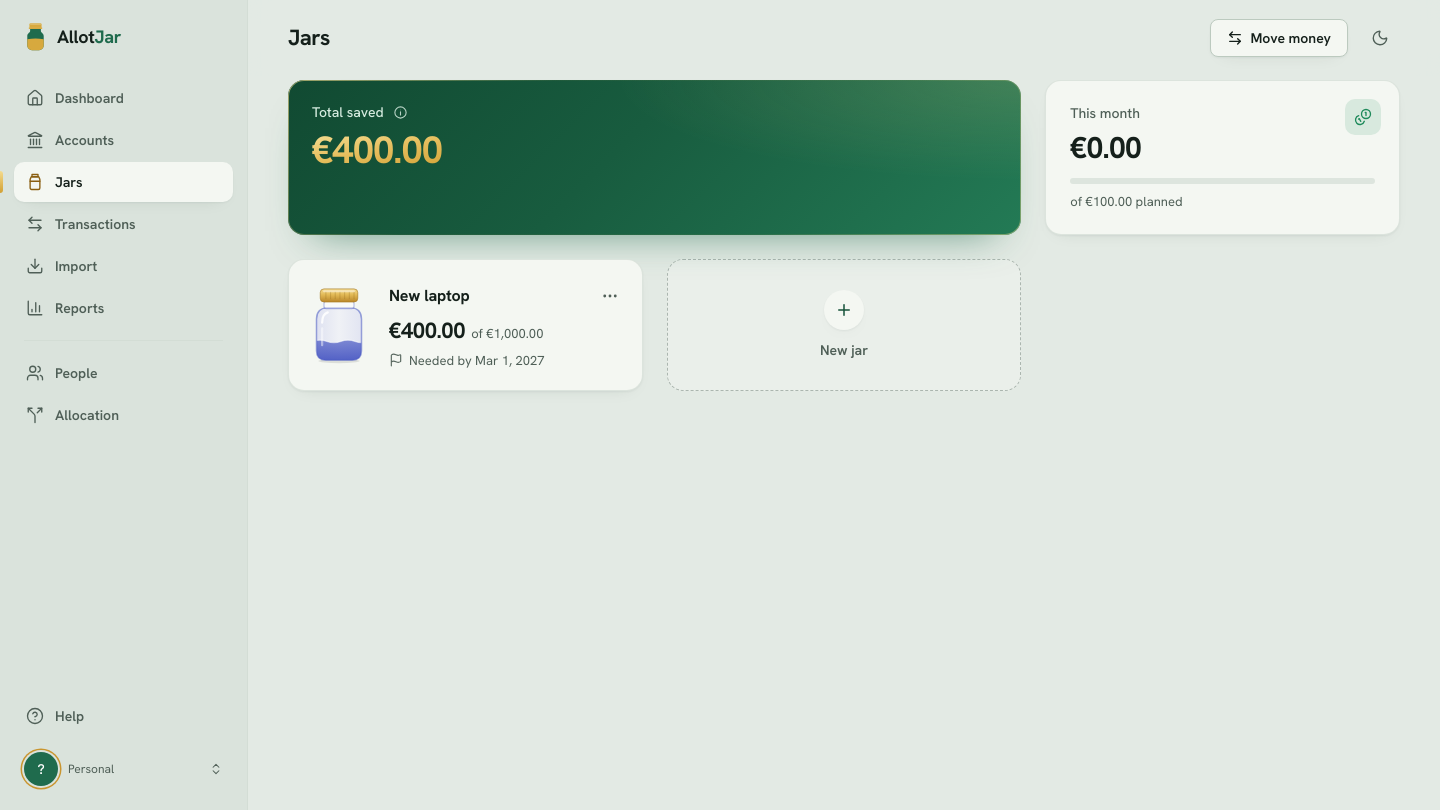
Test: JarsPage — completion and deletion (W04) › JAR-098: the server's refusal to complete is shown in its own words and the jar is unchanged
Click the button named "New laptop: more actions": click(610, 296) [590,276,630,316]
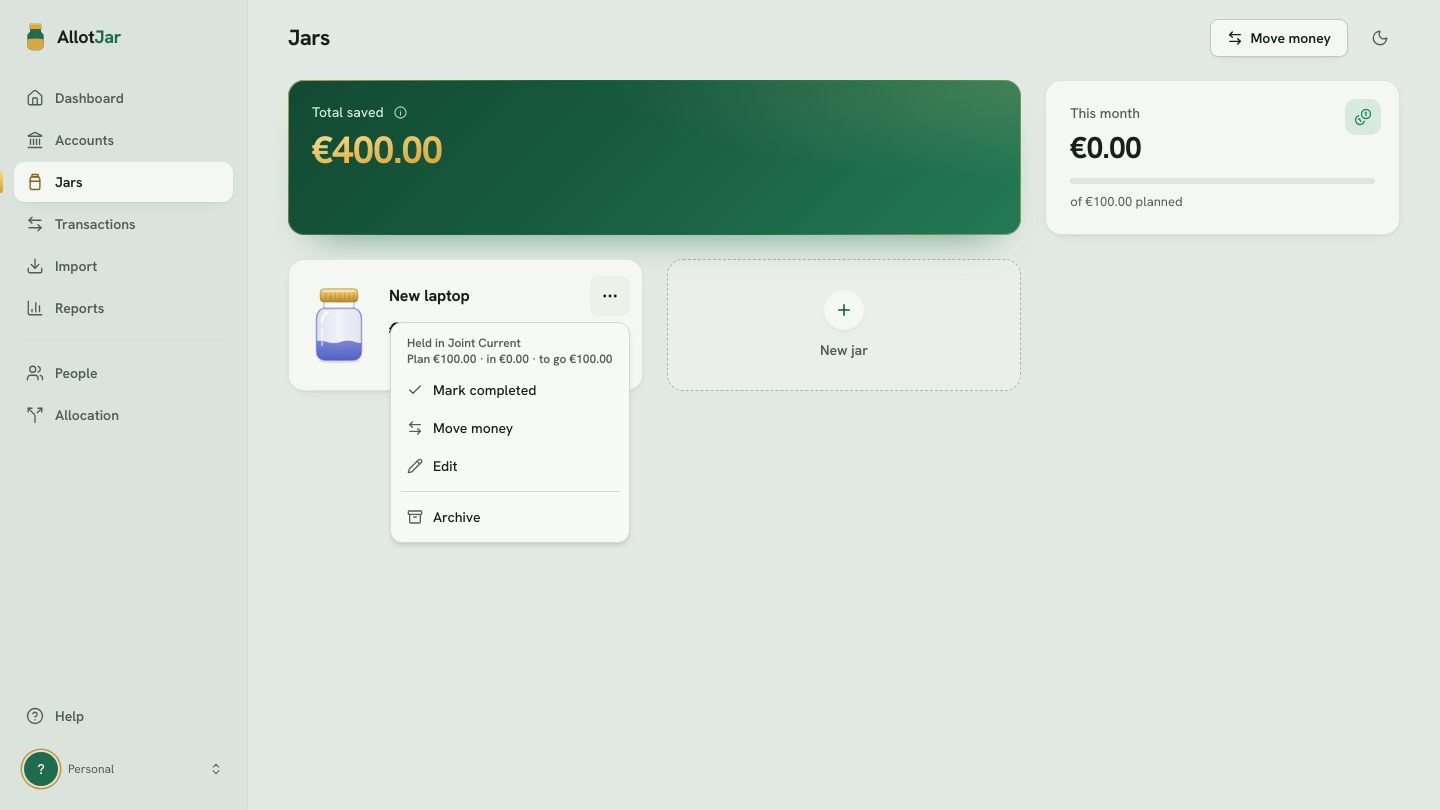
Click the menu item "Mark completed": click(472, 390) [407,381,536,399]
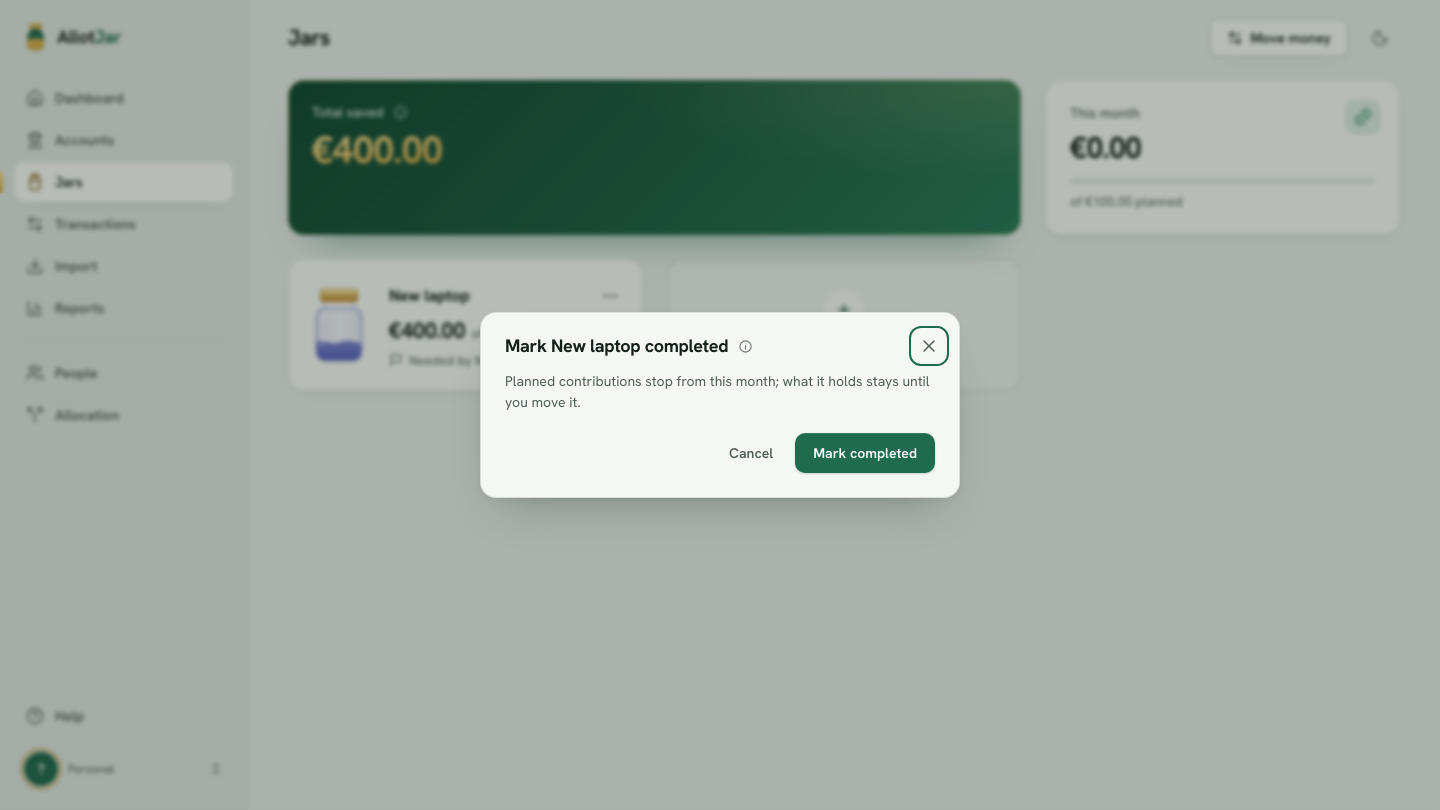
Click the button "Mark completed": click(865, 453) [795,433,935,473]
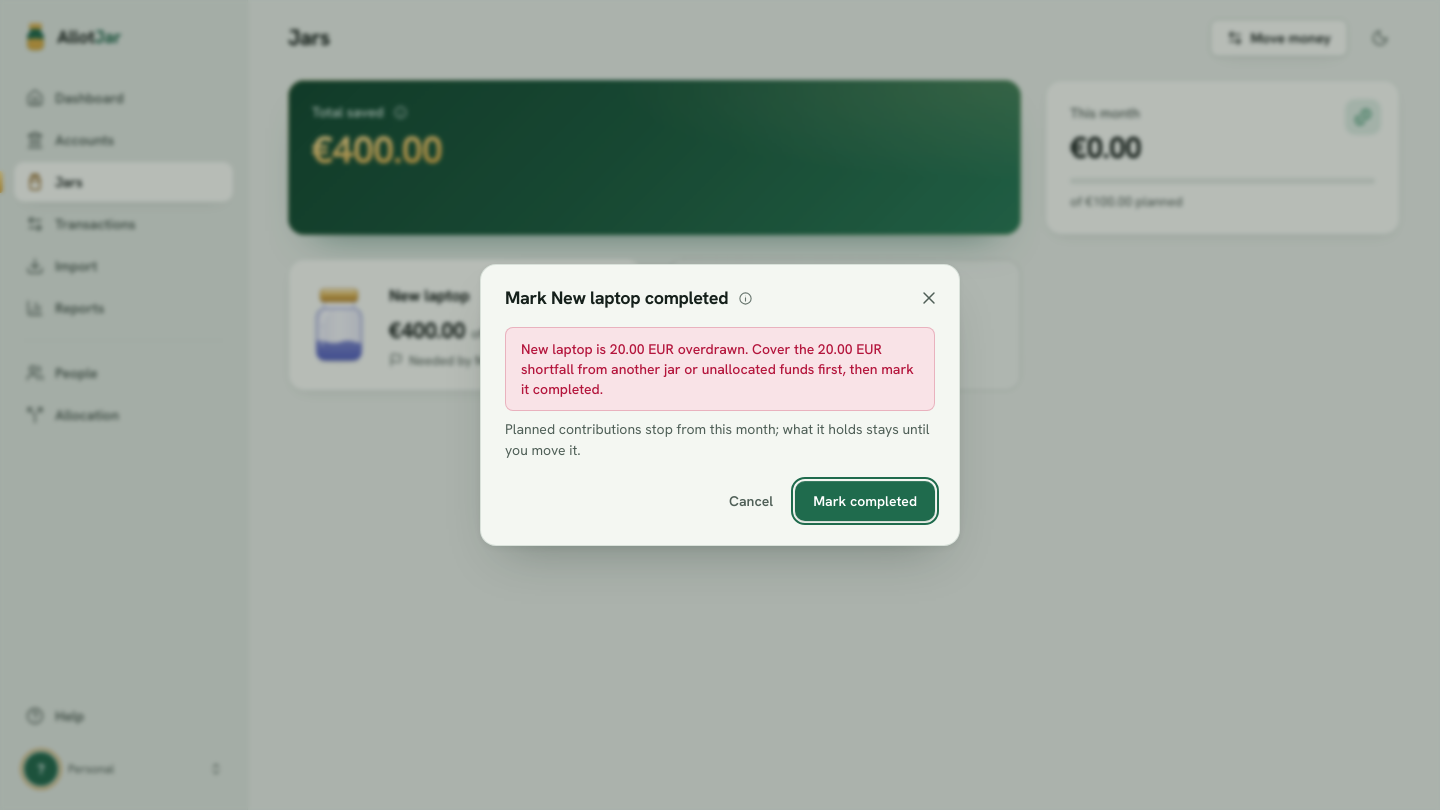
Expected: the text "New laptop is 20.00 EUR overdrawn. Cover the 20.00 EUR shortfall from another jar or unallocated funds first, then mark " is shown, [521,340,914,398]
